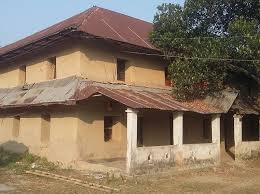Mud House: (2, 8, 254, 176)
